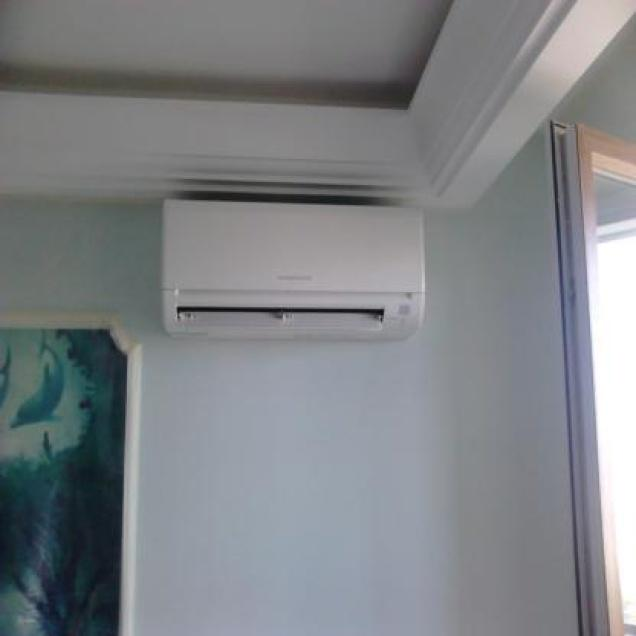AC: (159, 198, 426, 344)
